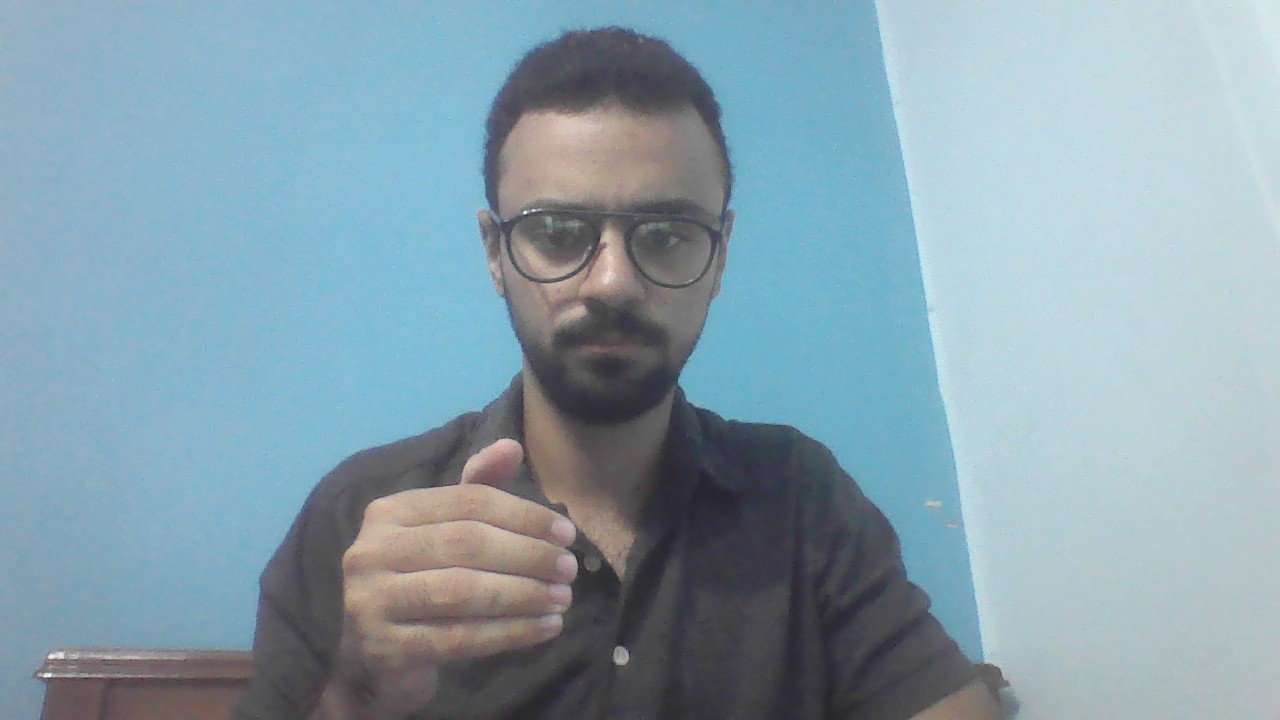drink: (339, 435, 581, 686)
